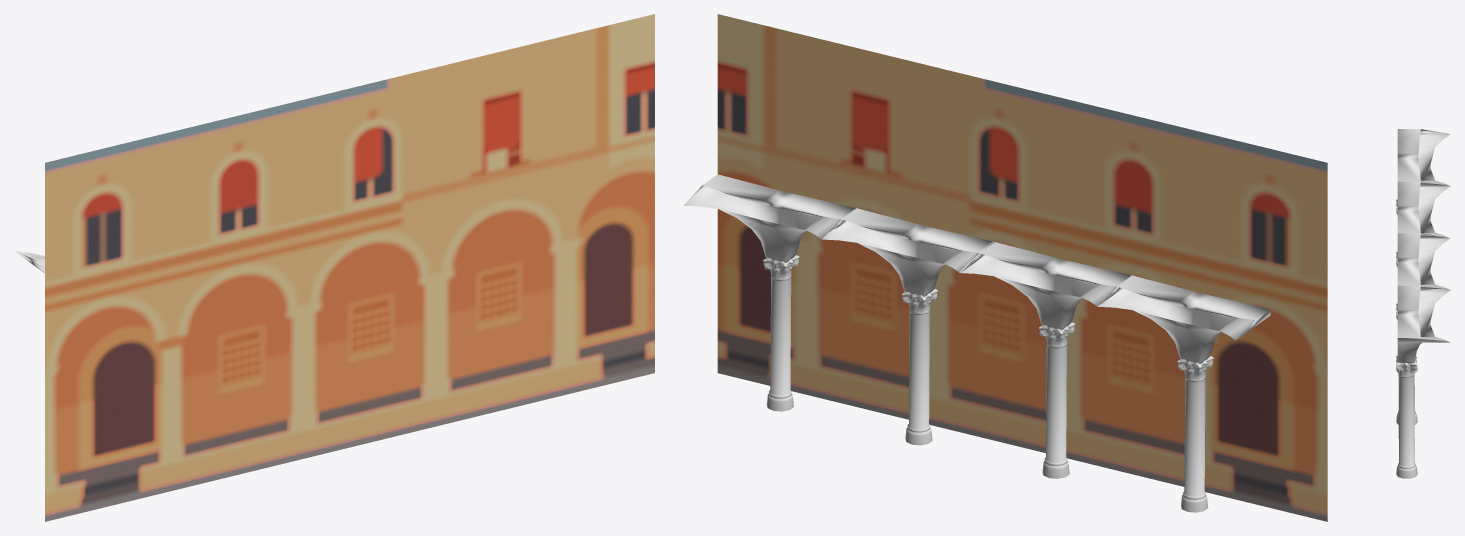
Rendered from fundo.fbx.
The picture shows the model from 3 angles, left to right: view 1: azimuth 30°, elevation 25°; view 2: azimuth 150°, elevation 25°; view 3: azimuth 270°, elevation 25°; orthographic projection. The views are drawn at different scales.
Parts seen in each view (by area): view 1: Plane.001; view 2: Plane.001, Cube.028; view 3: Cube.028.
Part boxes in pixels (x1,y1,x2,y2): Plane.001: [45, 14, 654, 521]; Plane.001: [717, 14, 1327, 521]; Cube.028: [683, 174, 1270, 512]; Cube.028: [1396, 129, 1450, 478].
Size of the model in its own units: 9949 by 5596 by 1732.
Materials: 2 (1 with a texture image).
